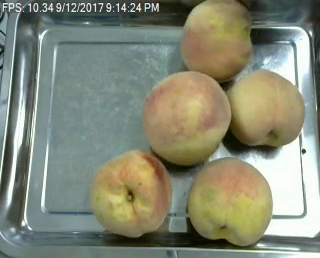Peach: (144, 69, 231, 165), (188, 157, 273, 246), (89, 149, 171, 236), (226, 68, 303, 147), (180, 0, 253, 81)
